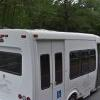Bus: (3, 17, 96, 100)
